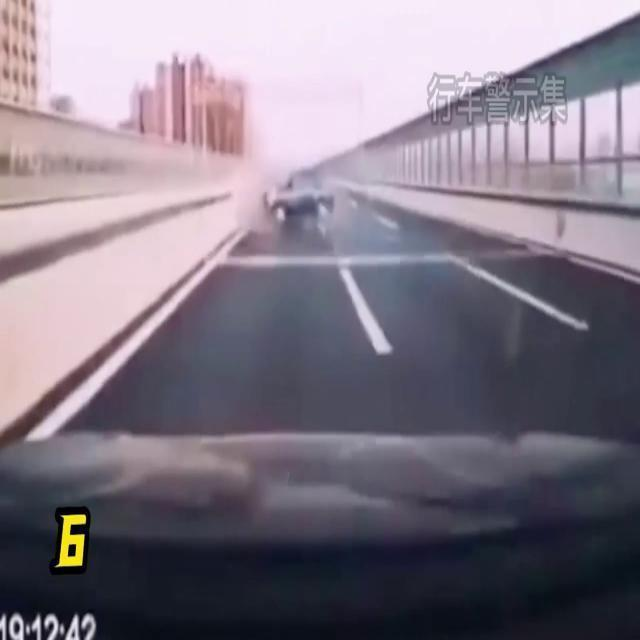accident: (260, 168, 340, 224)
